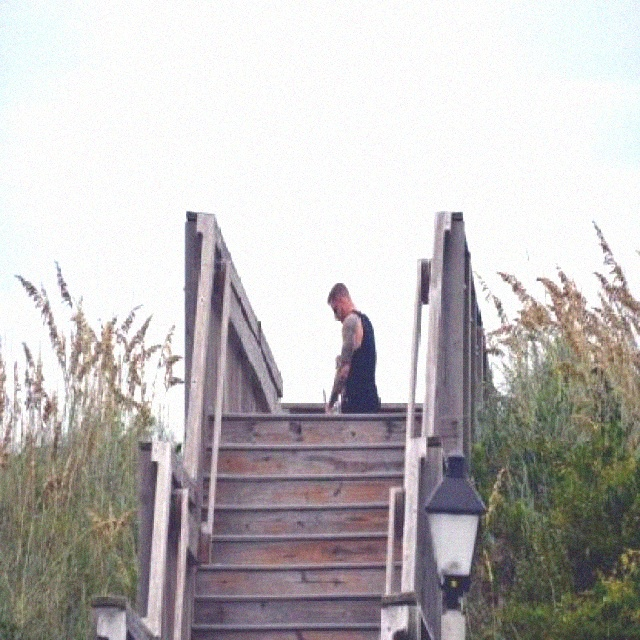stair: (194, 397, 423, 640)
